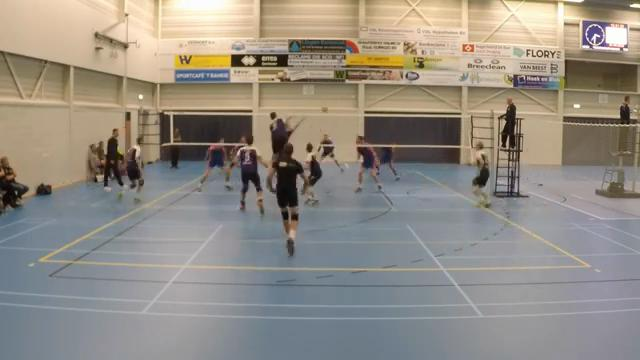Attack: (267, 108, 290, 193)
Player: (267, 143, 308, 255), (235, 135, 267, 214), (356, 136, 381, 192), (197, 145, 226, 190), (472, 142, 490, 206), (126, 137, 143, 202), (225, 135, 246, 182), (305, 143, 321, 204), (317, 134, 343, 171), (377, 144, 399, 180)
ball: (319, 104, 330, 113)
